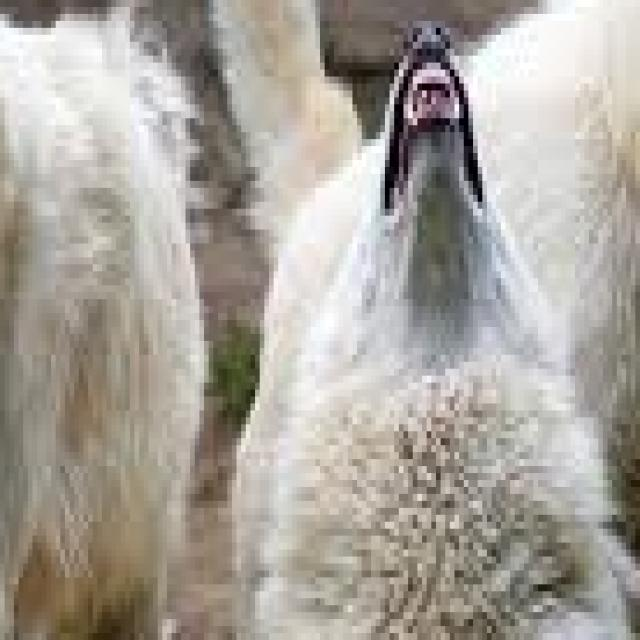wolf: (190, 0, 640, 640), (74, 0, 640, 376), (0, 0, 237, 640)
